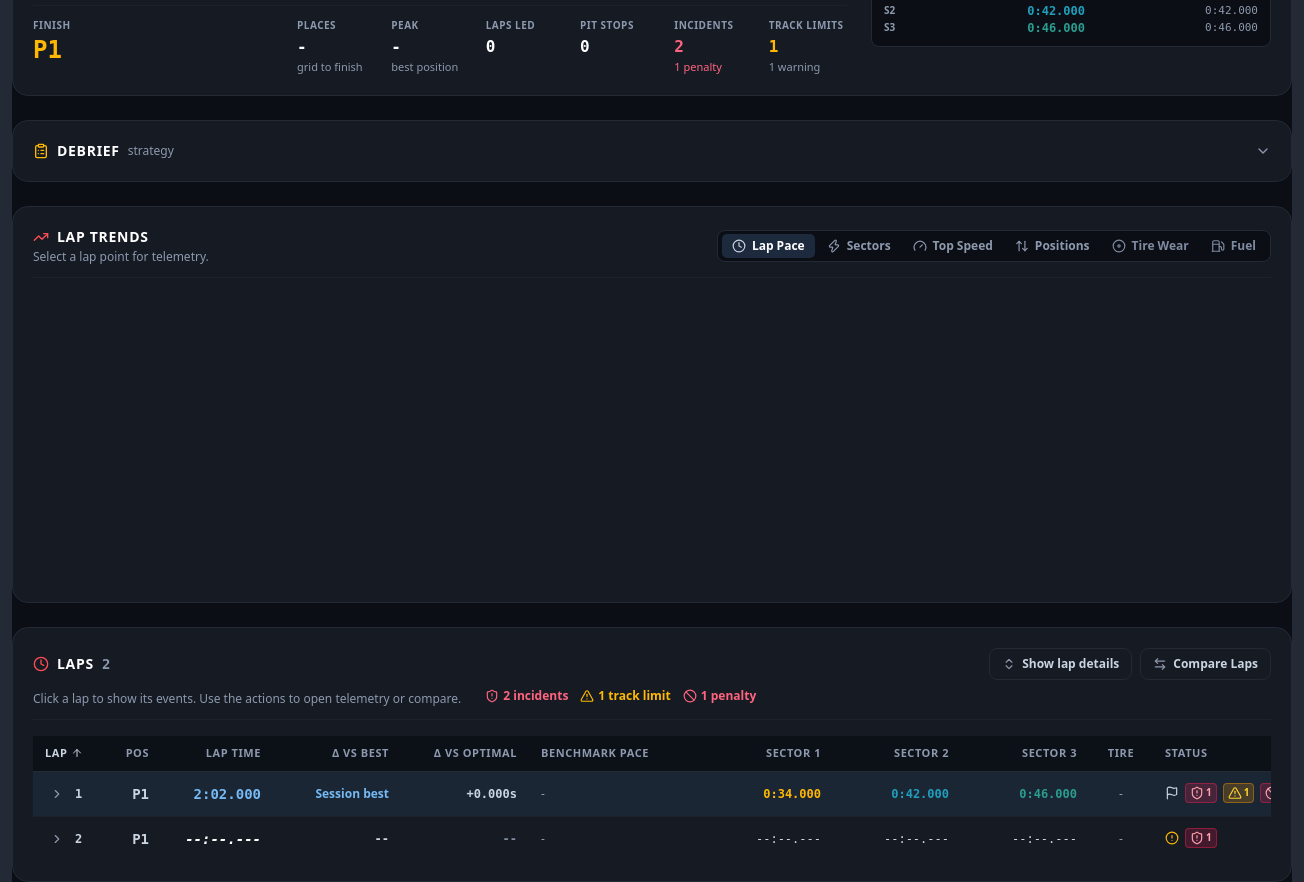
it: SessionDetail component - standings, laps & navigation › renders incident tooltips on incomplete laps, compact badges, and the stewards tally
(page scrolled)
Check: the element with test id "lap-stewards-line" shows "2 incidents", box [503,687,568,704]
Check: the element with test id "lap-stewards-line" shows "1 track limit", box [598,687,671,704]
Click the button "Show lap details" at (1061, 664), box [989,648,1132,680]
(page scrolled)
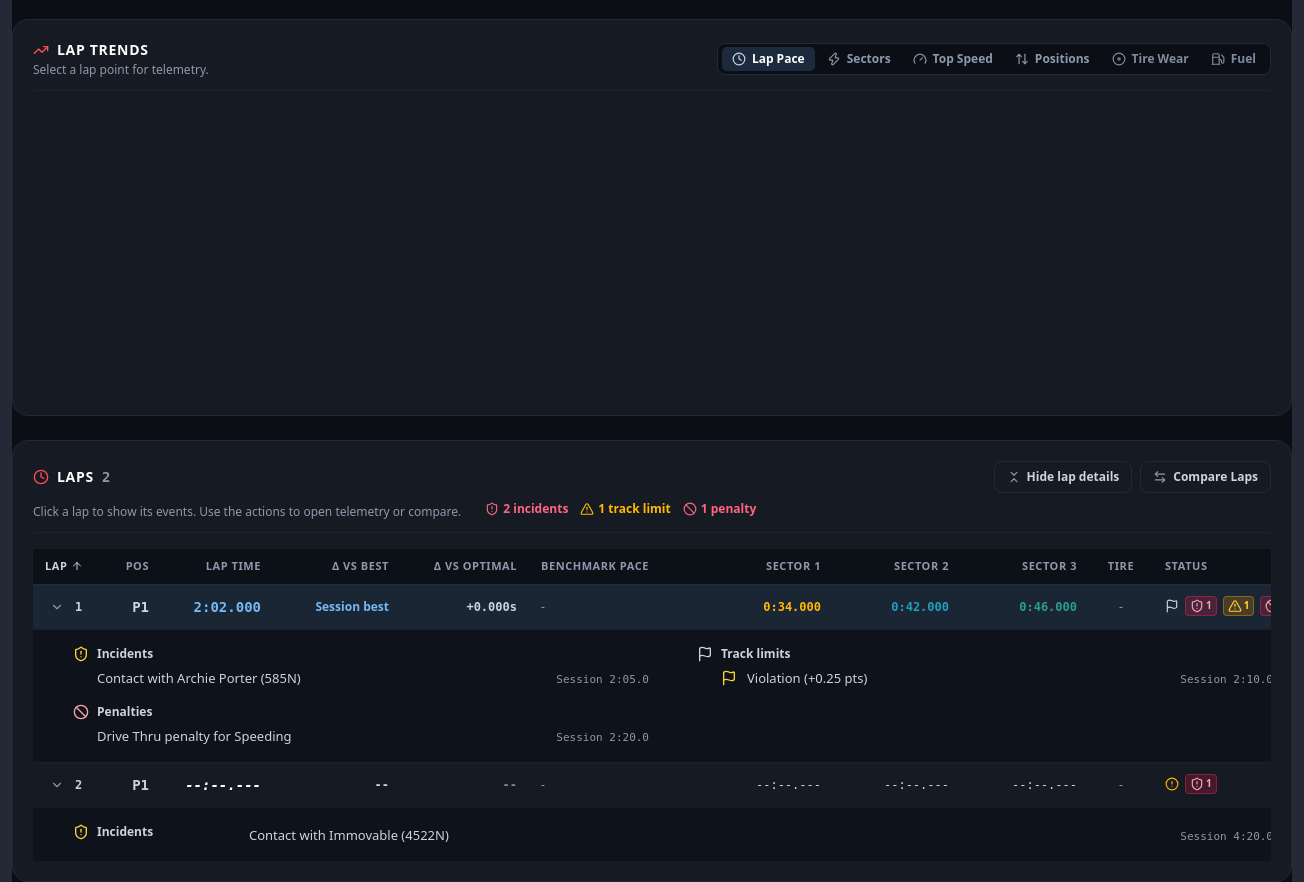
Check: the text "Contact with Archie Porter (585N)" is shown, box [97,668,301,688]
Check: the text "Contact with Immovable (4522N)" is shown, box [249,825,449,845]
